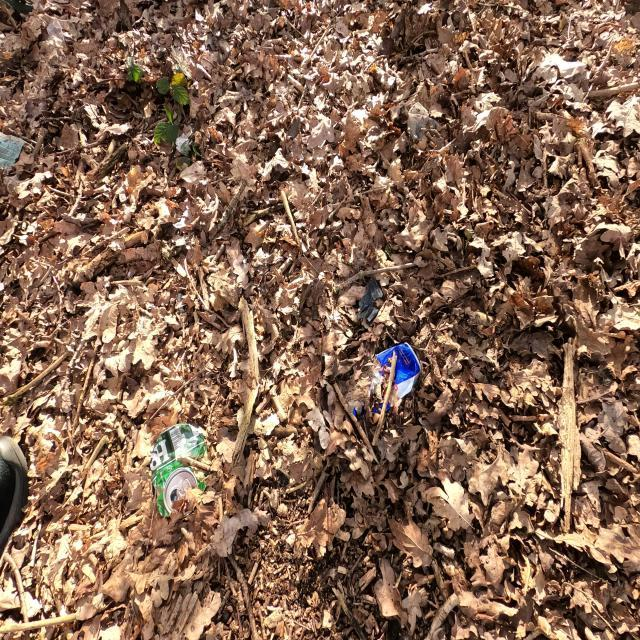Metal: (149, 422, 209, 518), (351, 340, 423, 418)
